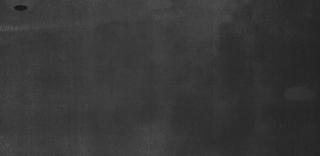punching hole: (12, 5, 28, 11)
